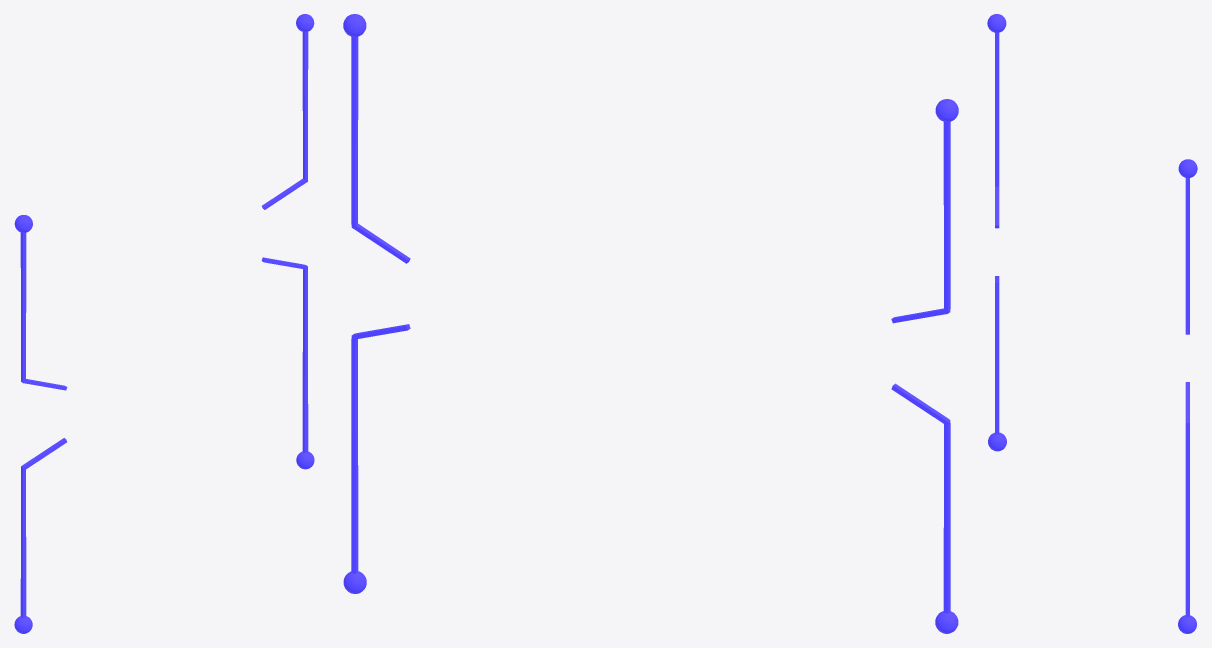
Rendered from SegnPortraitSocial6.gltf.
The picture shows the model from 3 angles, left to right: view 1: azimuth 30°, elevation 25°; view 2: azimuth 150°, elevation 25°; view 3: azimuth 270°, elevation 25°; orthographic projection. The views are drawn at different scales.
Parts seen in each view (by area): view 1: ListnerModuli.015; view 2: ListnerModuli.015; view 3: ListnerModuli.015.
Boxes of the visible parts, bbox=[...] form: ListnerModuli.015: bbox=[14, 14, 314, 633]; ListnerModuli.015: bbox=[343, 14, 958, 633]; ListnerModuli.015: bbox=[987, 14, 1197, 633].
Size of the model in its own units: 1.03 by 1.17 by 0.4639.
